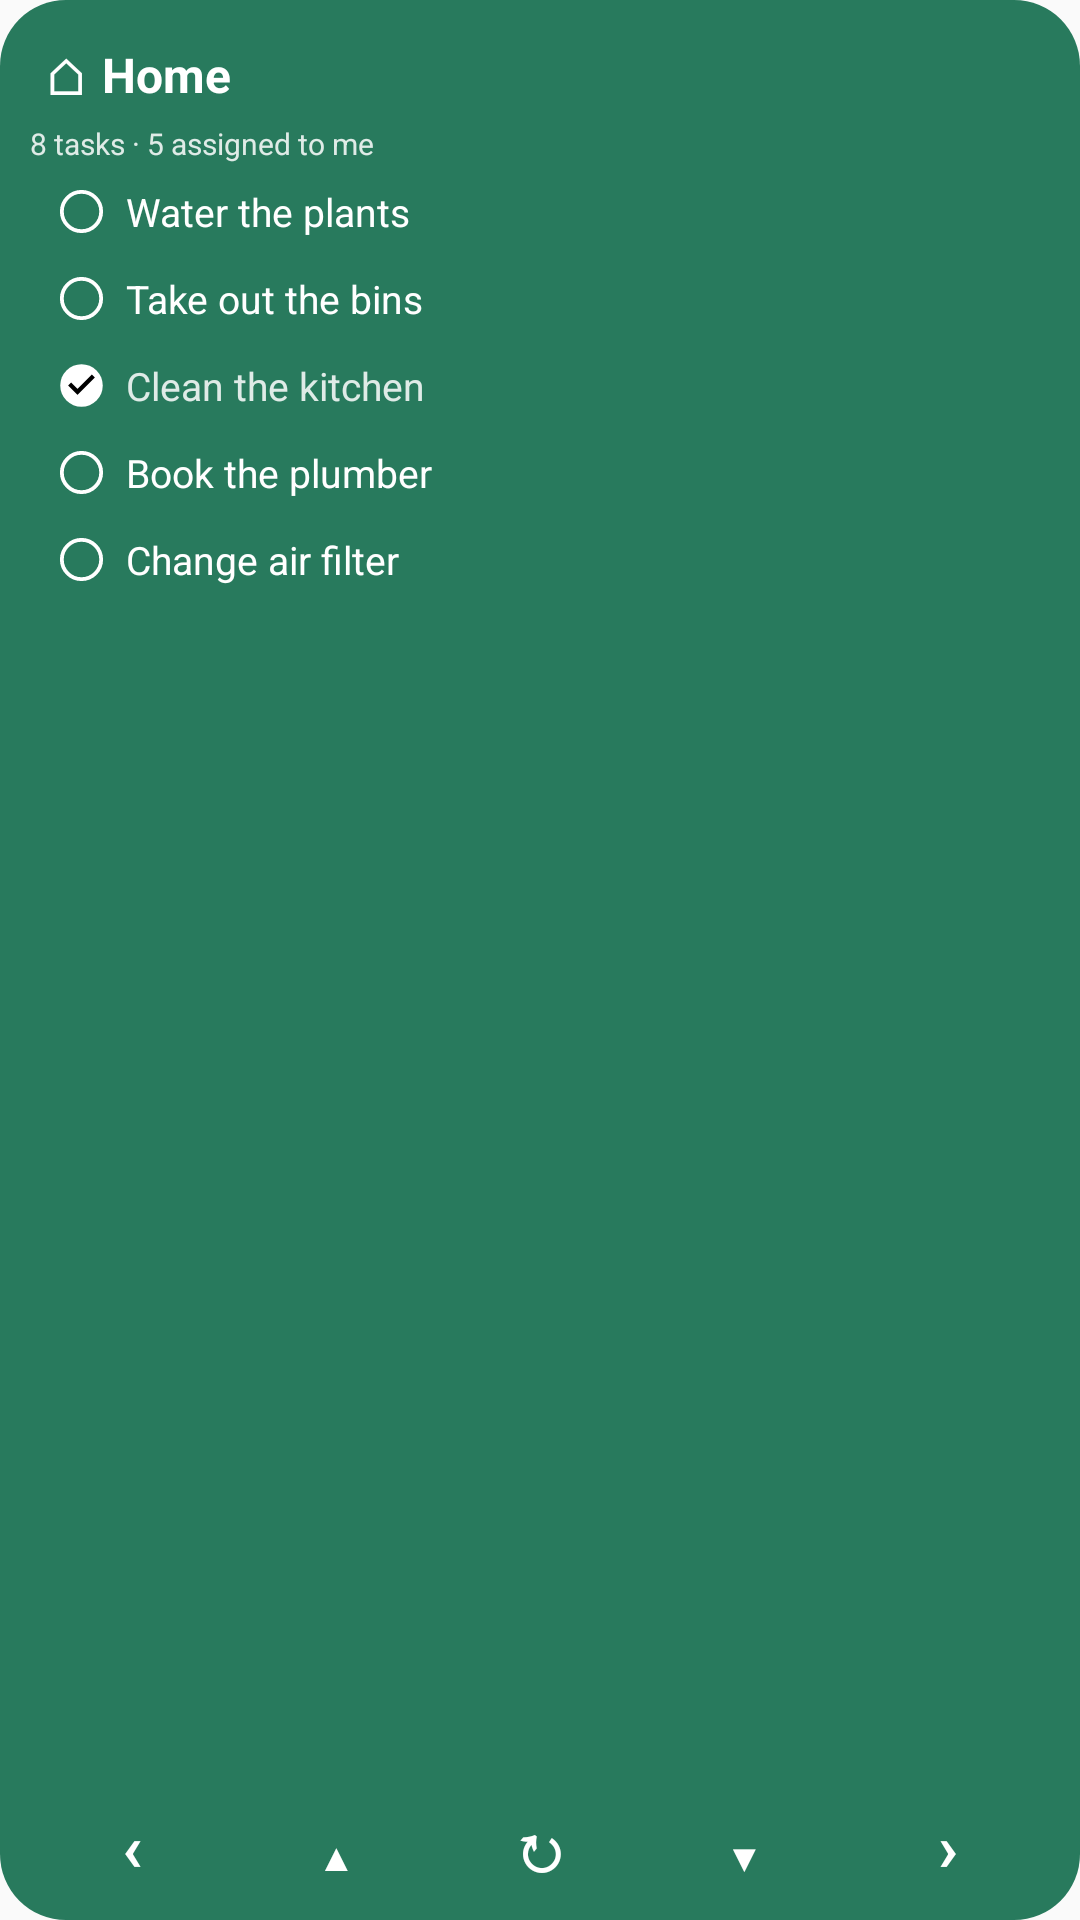

Locate icon controls on the screen. Image size 1080x1920, boxes as (x1, y1, x2, y2).
widget project check circle: (60, 364, 103, 407)
